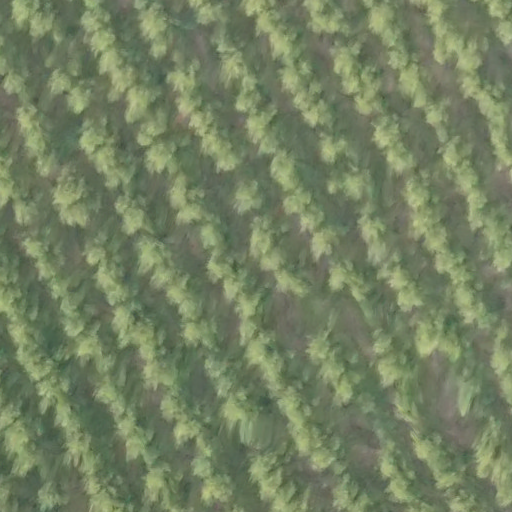eucalipto: (230, 176, 271, 220), (92, 144, 135, 185), (140, 354, 181, 396), (453, 285, 496, 325), (130, 110, 173, 149), (399, 62, 438, 105), (264, 24, 304, 63), (135, 235, 171, 278), (122, 84, 162, 121), (329, 41, 369, 78), (107, 60, 147, 97), (327, 259, 369, 294), (145, 464, 182, 502), (317, 130, 359, 163), (438, 133, 475, 169), (207, 246, 243, 282), (142, 144, 181, 177), (167, 59, 203, 94), (448, 158, 485, 192), (1, 418, 39, 451), (51, 177, 90, 209), (241, 106, 276, 141), (281, 59, 318, 92), (274, 267, 311, 300), (399, 177, 436, 209), (246, 340, 286, 369), (278, 390, 312, 424), (247, 221, 280, 256), (194, 224, 229, 257), (139, 3, 171, 39), (273, 152, 305, 187), (88, 30, 123, 62), (185, 106, 220, 138), (390, 285, 426, 316), (200, 471, 236, 502), (32, 252, 69, 282), (378, 258, 412, 290), (81, 236, 117, 266), (254, 246, 290, 276), (300, 98, 336, 128), (37, 480, 73, 510), (279, 188, 316, 217), (28, 11, 60, 43), (81, 6, 114, 37), (122, 202, 152, 236), (183, 318, 217, 348), (65, 83, 96, 115), (371, 112, 400, 146), (168, 175, 197, 209), (120, 427, 154, 456), (356, 214, 390, 243), (154, 266, 189, 294), (365, 3, 400, 31), (80, 118, 112, 148), (95, 259, 125, 291), (46, 66, 78, 96), (174, 413, 207, 442), (386, 142, 419, 171), (248, 452, 278, 483), (422, 223, 450, 256), (24, 125, 51, 159), (115, 303, 145, 333), (178, 296, 207, 327), (241, 317, 272, 346), (26, 235, 61, 260), (98, 382, 127, 409), (256, 10, 285, 37), (1, 71, 29, 98), (423, 97, 452, 123), (312, 227, 342, 252), (298, 206, 326, 232), (159, 394, 187, 420), (214, 146, 240, 173), (188, 450, 214, 477), (491, 17, 512, 47), (147, 38, 173, 61)
